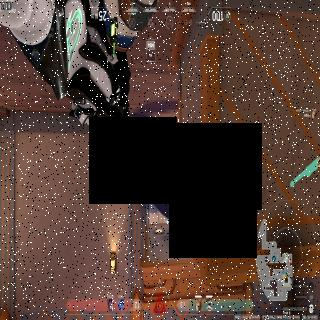ENEMY-BODY: (153, 144, 157, 158)
ENEMY-HEAD: (154, 154, 156, 158)
